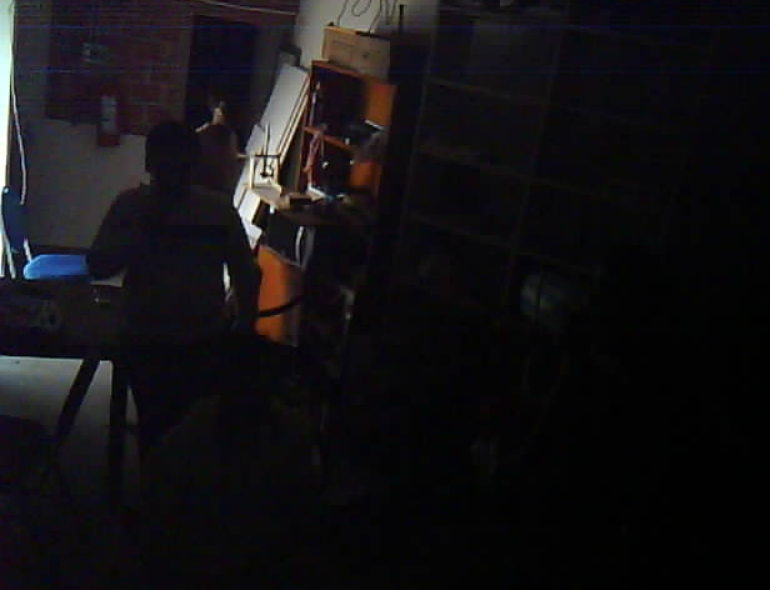person: (67, 97, 291, 474)
